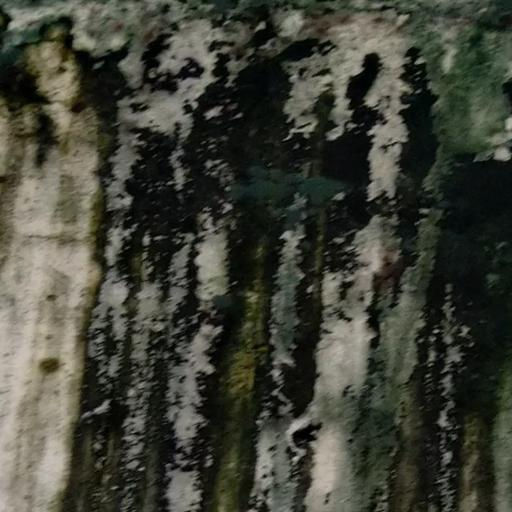algae: (66, 26, 512, 509)
